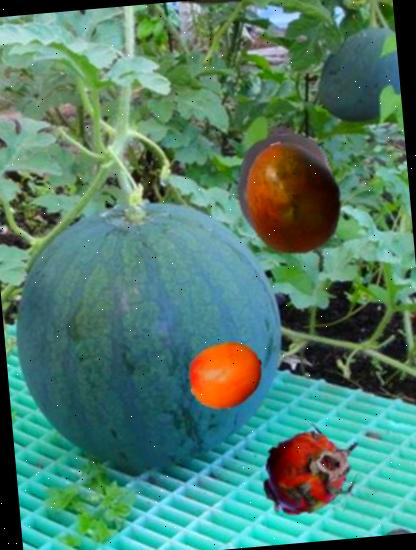Apricot: (185, 335, 267, 417)
Mango: (231, 136, 356, 260)
Passion: (227, 130, 346, 250)
Pitahaya: (251, 412, 371, 532)
